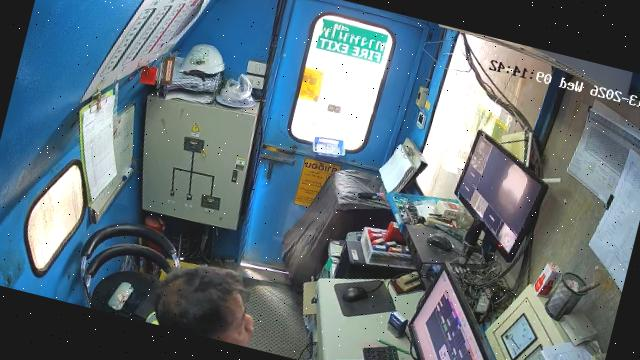Head: (146, 267, 253, 346)
